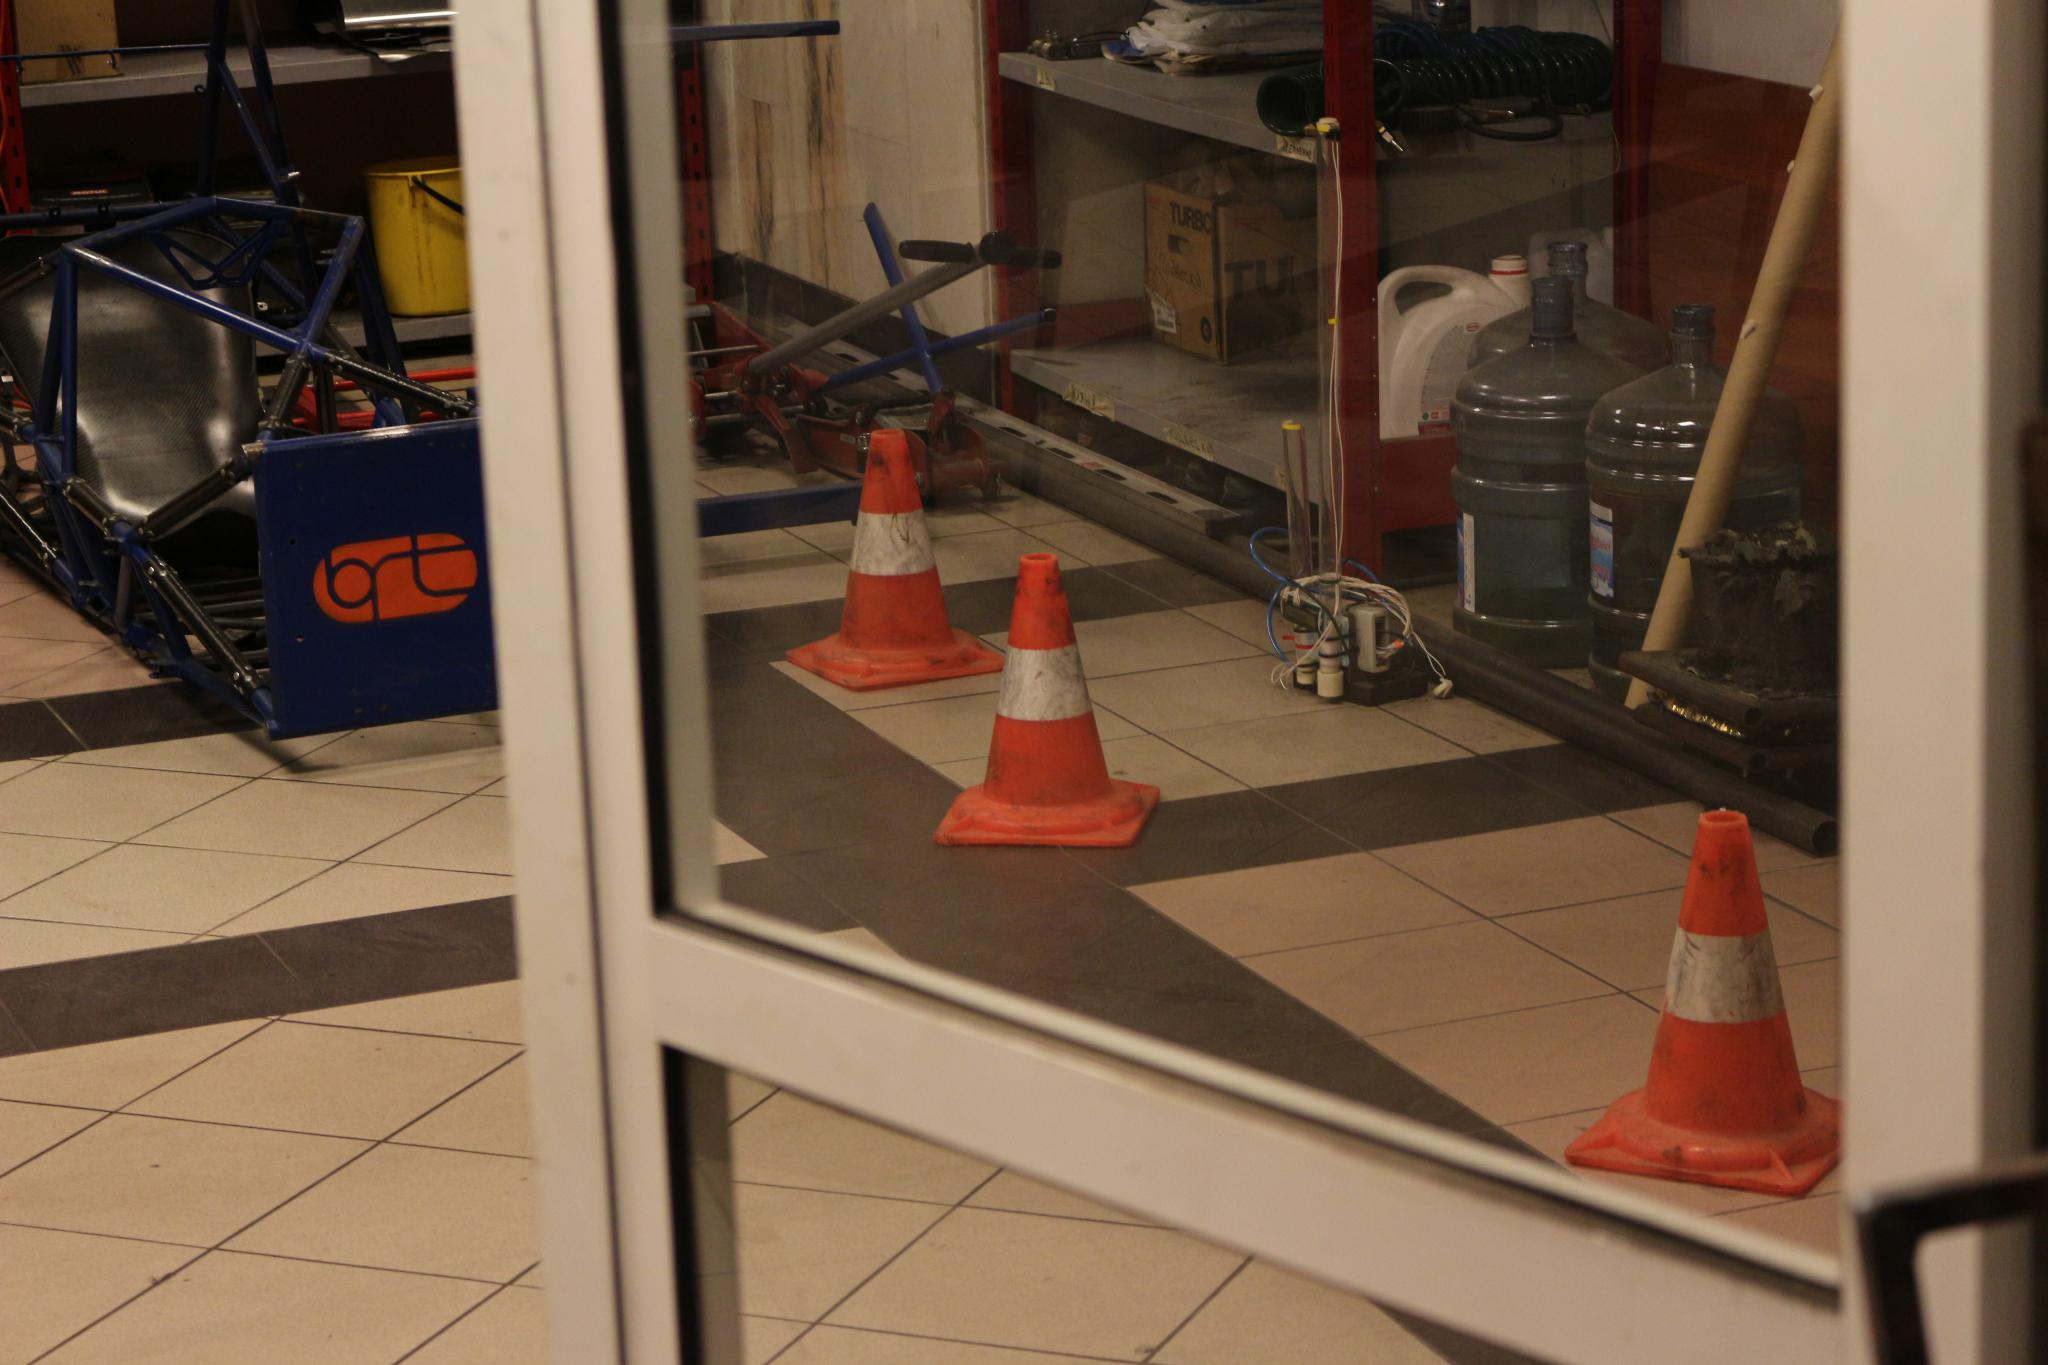Orange_Cone: (1609, 798, 1859, 1182), (930, 548, 1150, 841), (792, 413, 988, 676)
